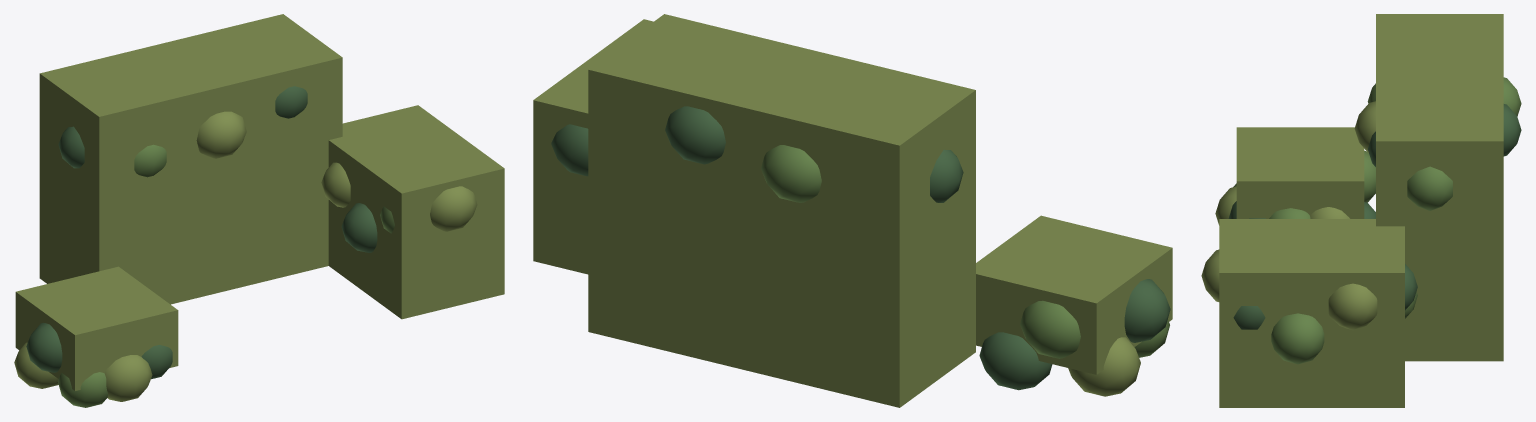
The picture shows the model from 3 angles, left to right: view 1: azimuth 30°, elevation 25°; view 2: azimuth 150°, elevation 25°; view 3: azimuth 270°, elevation 25°; orthographic projection. The views are drawn at different scales.
Parts seen in each view (by area): view 1: climb-hedge-11-0, climb-hedge-11-1, 생울타리 12, climb-hedge-11-2; view 2: climb-hedge-11-0, 생울타리 12, climb-hedge-11-2, climb-hedge-11-1; view 3: climb-hedge-11-0, climb-hedge-11-1, 생울타리 12, climb-hedge-11-2.
Part boxes in pixels (bbox=[...]): climb-hedge-11-0: bbox=[39, 14, 342, 304]; climb-hedge-11-1: bbox=[328, 105, 504, 319]; 생울타리 12: bbox=[14, 86, 477, 407]; climb-hedge-11-2: bbox=[15, 266, 178, 390]; climb-hedge-11-0: bbox=[588, 14, 975, 407]; 생울타리 12: bbox=[551, 106, 1170, 396]; climb-hedge-11-2: bbox=[976, 215, 1172, 374]; climb-hedge-11-1: bbox=[533, 19, 653, 274]; climb-hedge-11-0: bbox=[1376, 14, 1503, 361]; climb-hedge-11-1: bbox=[1219, 219, 1404, 407]; 생울타리 12: bbox=[1201, 77, 1521, 364]; climb-hedge-11-2: bbox=[1236, 127, 1364, 218].
Size of the model in its own units: 4.93 by 2.4 by 2.76.
